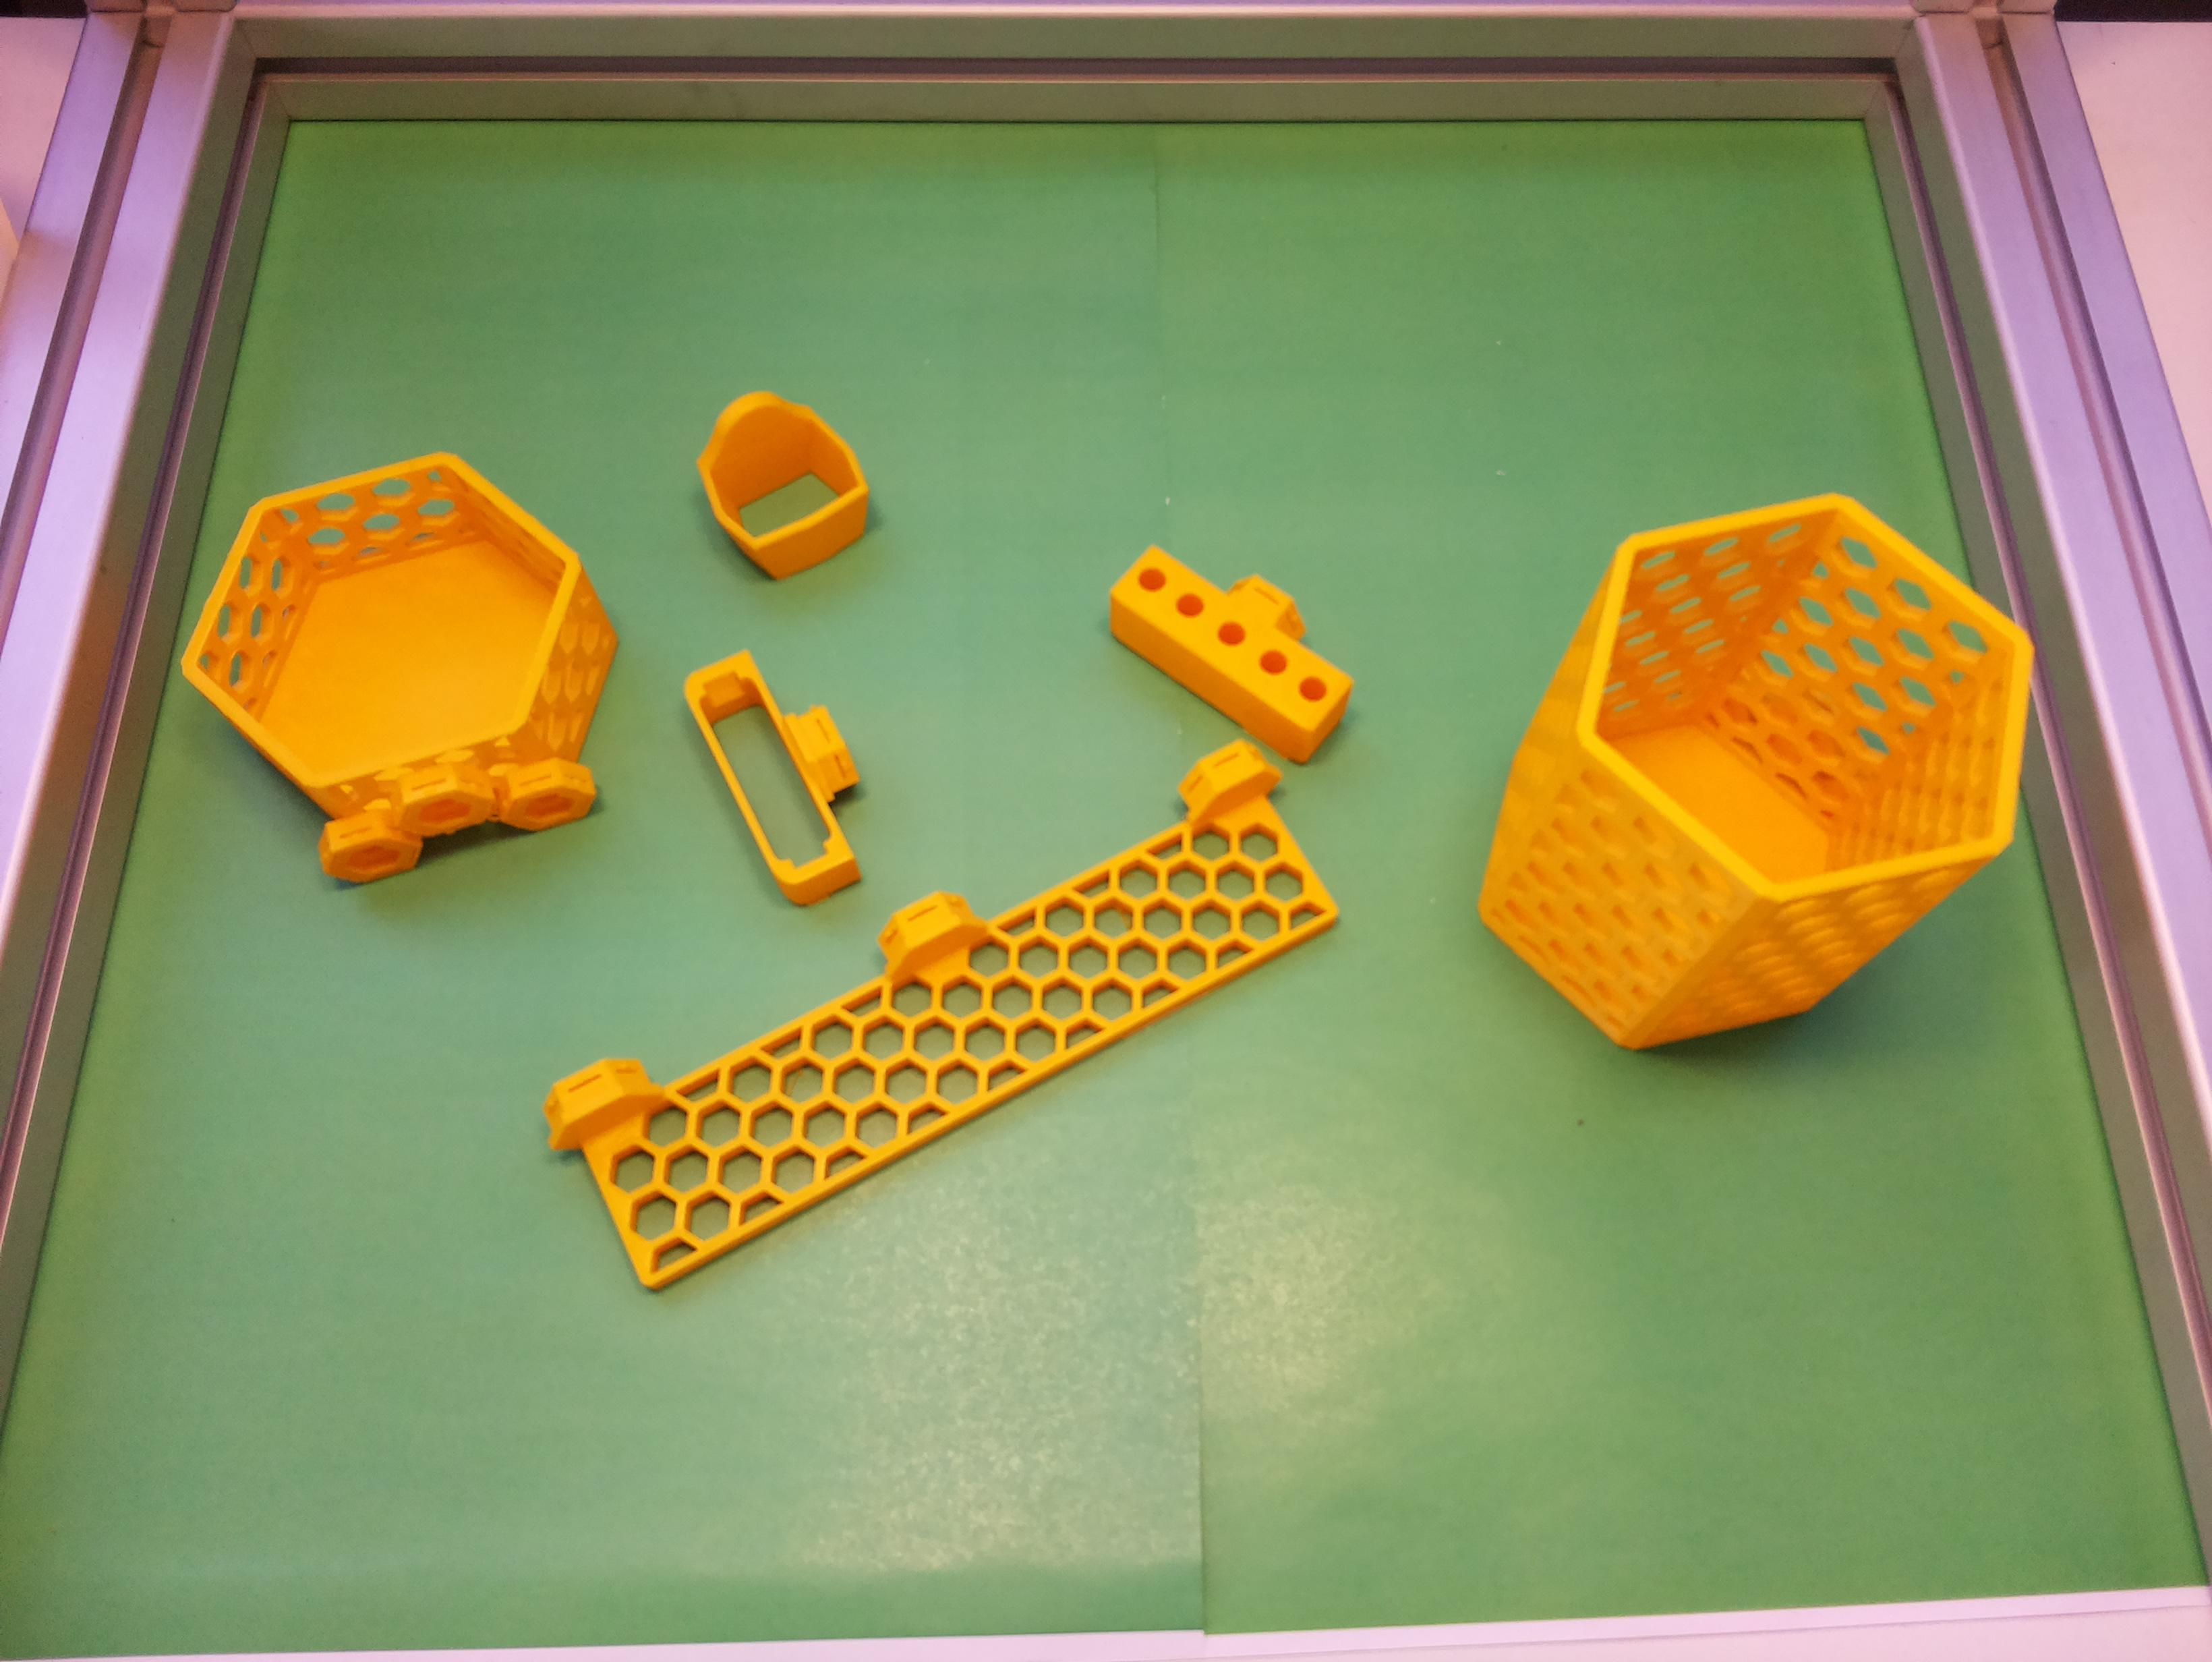bit_holder: (1091, 510, 1381, 772)
bottle_holder: (143, 414, 662, 915)
cup_holder: (1377, 403, 2118, 1157)
cutter_holder: (676, 627, 903, 915)
scissor_holder: (667, 361, 894, 597)
tool_holder: (529, 728, 1360, 1301)
